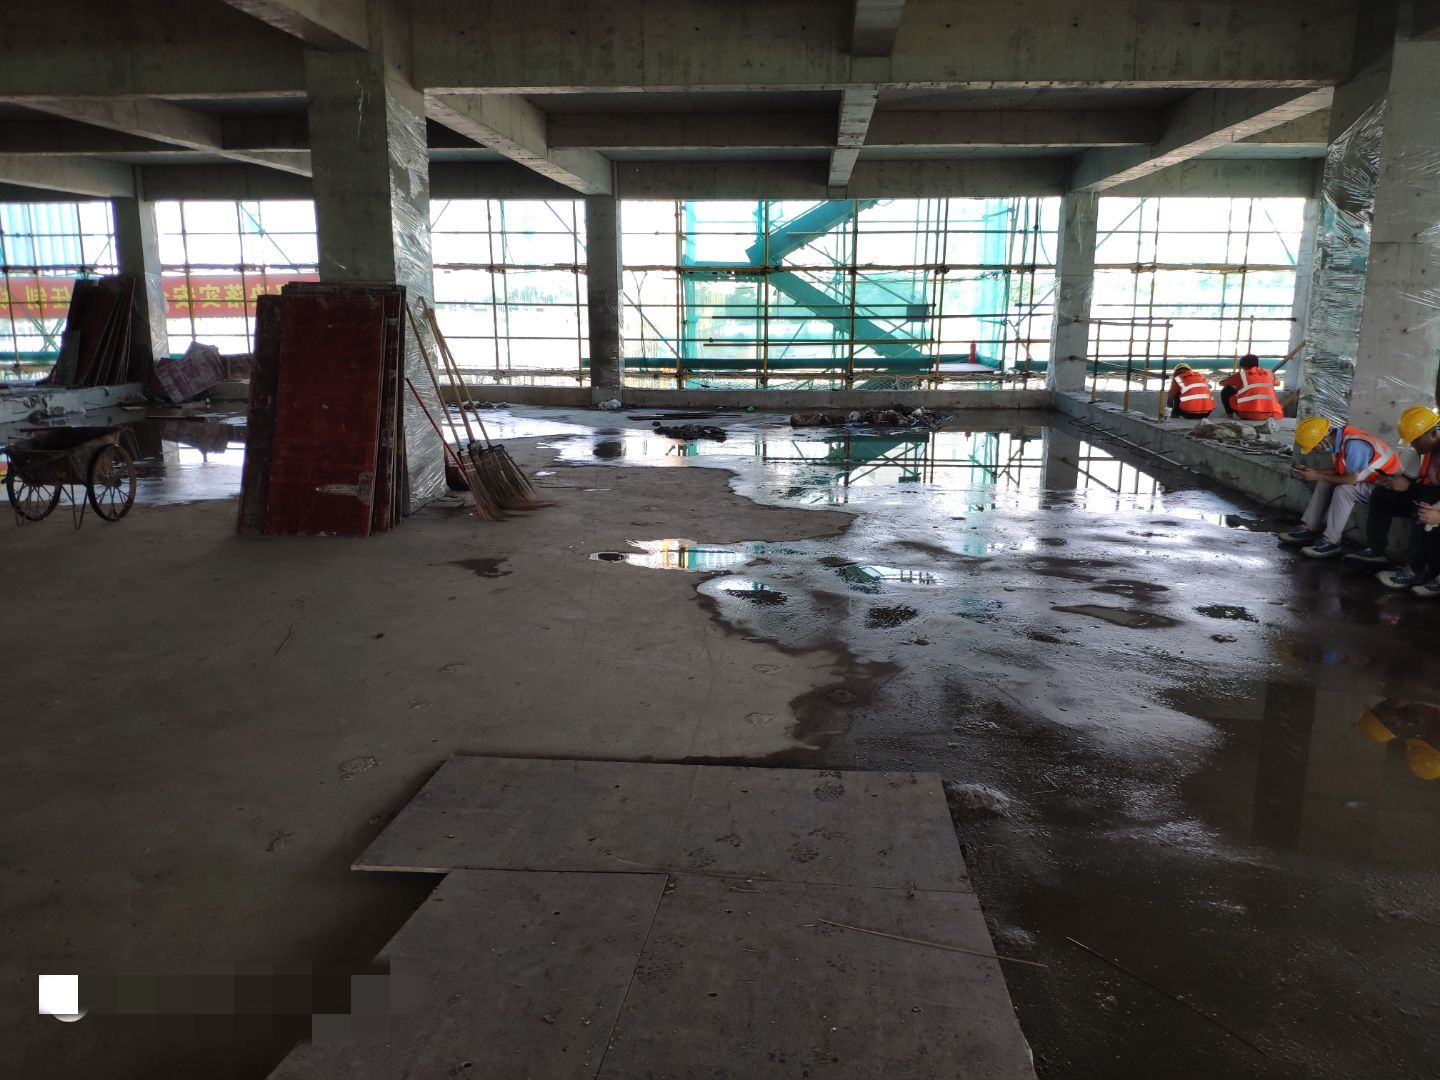handcart: (6, 406, 173, 532)
helmet: (1395, 404, 1437, 443), (1294, 416, 1330, 453), (1237, 351, 1256, 367), (1176, 363, 1191, 374)
person: (1290, 410, 1400, 551), (1383, 405, 1440, 591), (1222, 351, 1282, 421), (1159, 356, 1217, 419)
vest: (1332, 431, 1394, 476), (1233, 370, 1276, 416), (1171, 374, 1213, 413), (1420, 447, 1440, 493)
